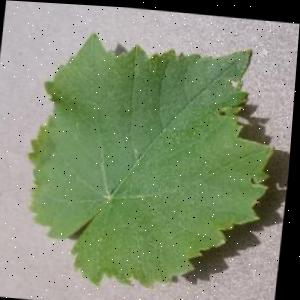Folha: (16, 25, 287, 297)
